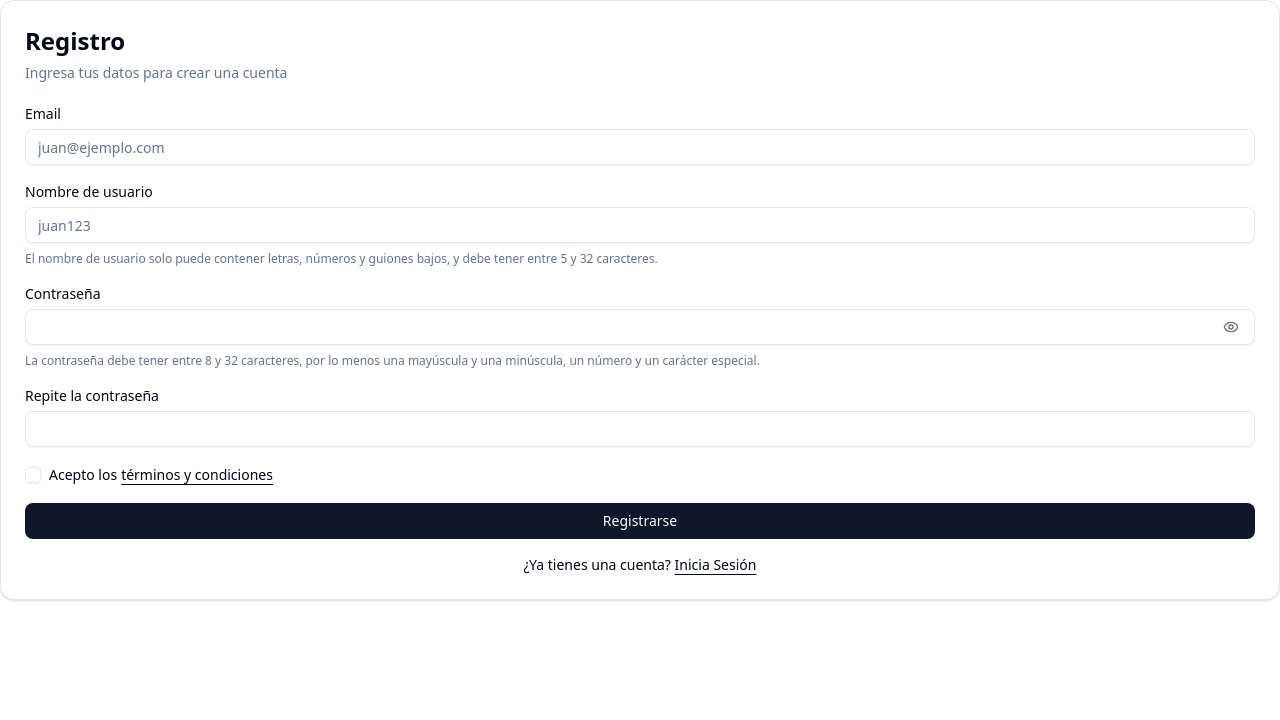
Test: RegisterForm › muestra error si las contraseñas no coinciden
This screenshot has width=1280, height=720.
Type "test@example.com" into the field labelled "Email" at (640, 147), box [25,129,1255,165]
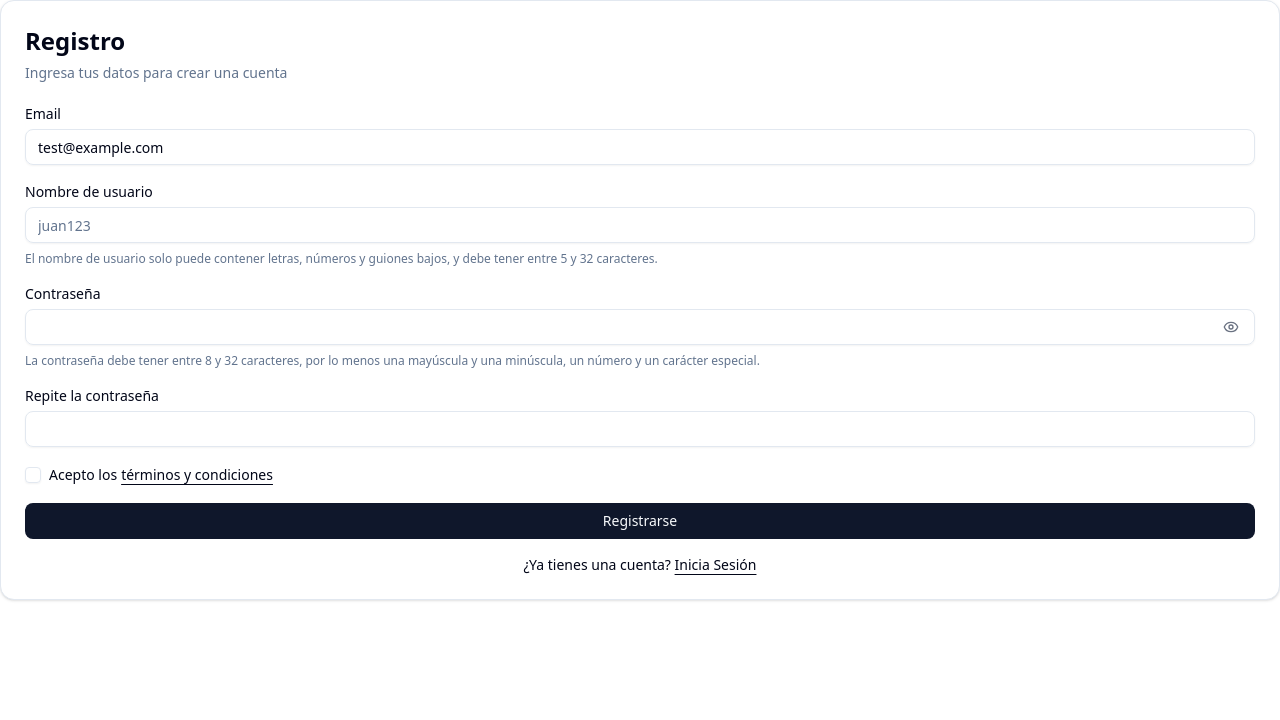
Type "usuario123" into the field labelled "Nombre de usuario" at (640, 225), box [25,207,1255,243]
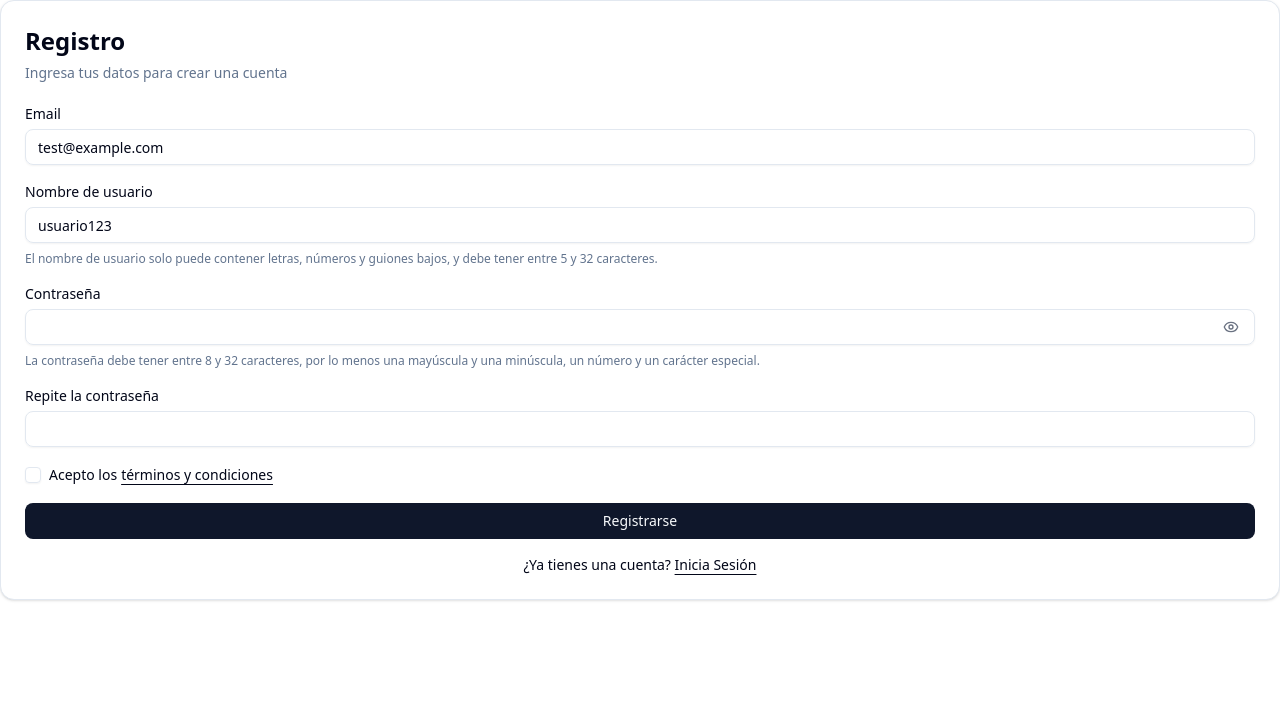
Type "Password1!" into the password field labelled "Contraseña" at (640, 327), box [25,309,1255,345]
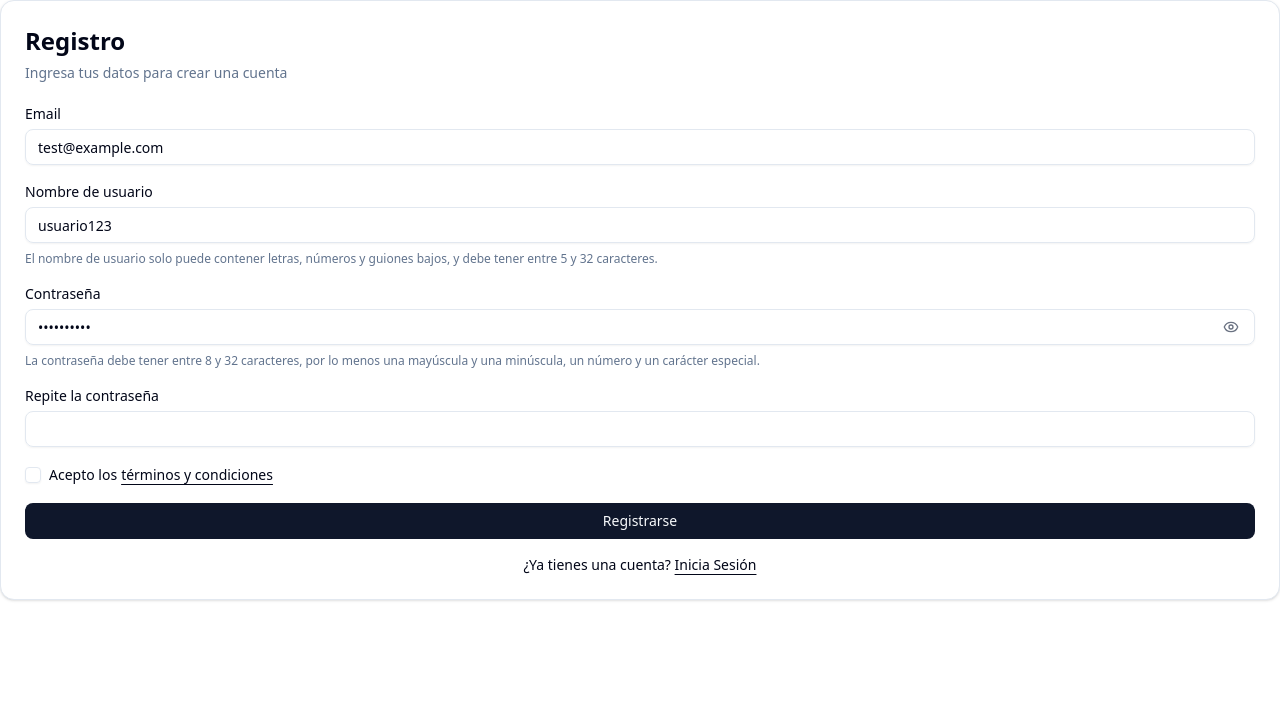
Type "Password2!" into the password field labelled "Repite la contraseña" at (640, 429), box [25,411,1255,447]
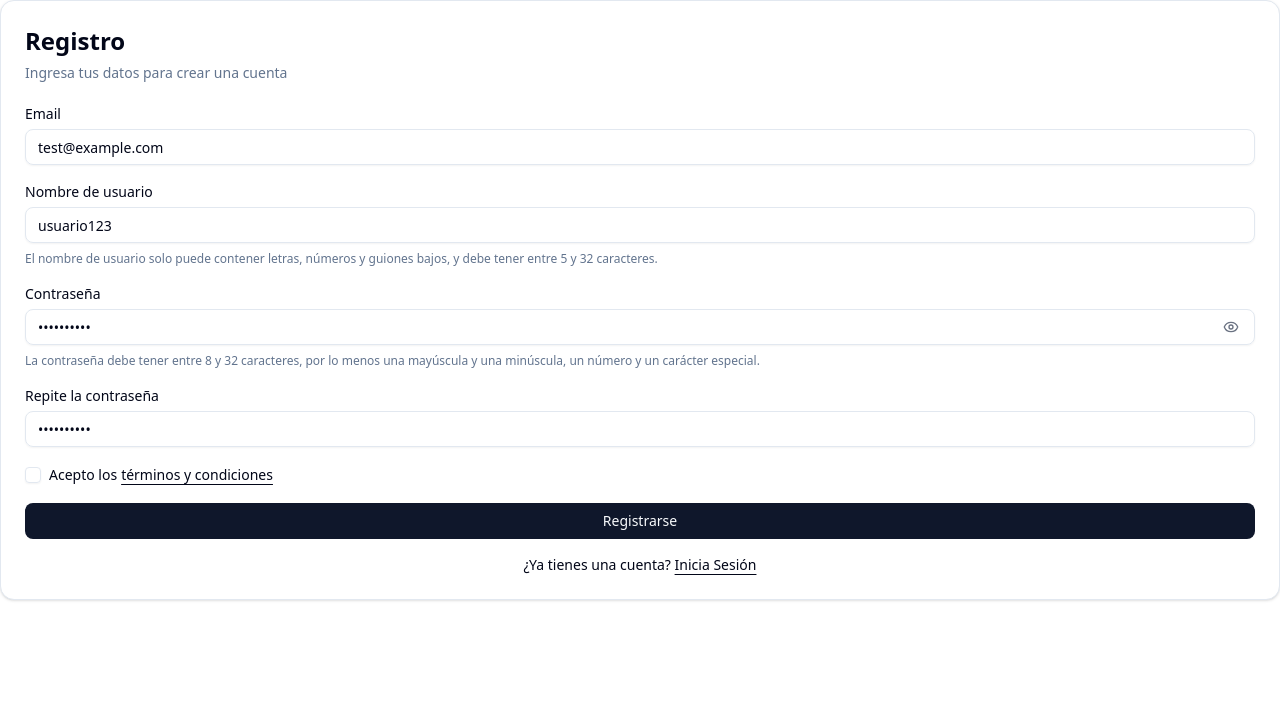
Click the checkbox named "acepto los" at (33, 475), box [25,467,41,483]
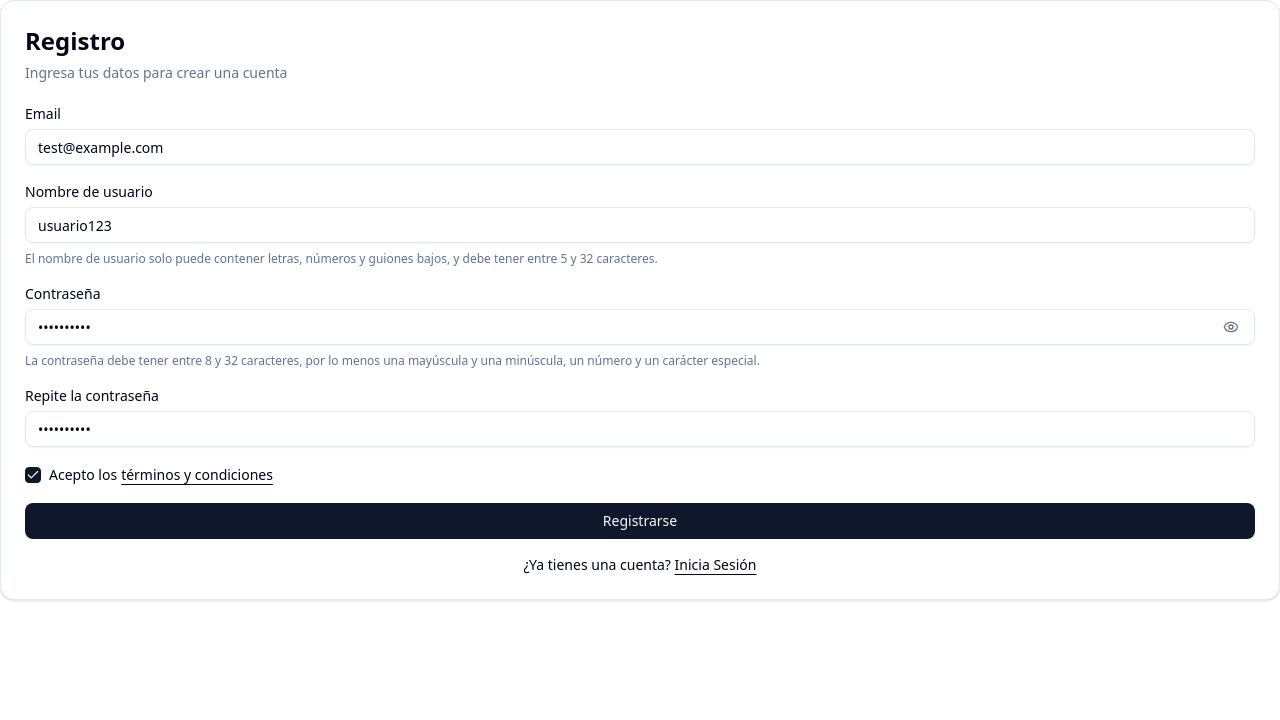
Click the button "Registrarse" at (640, 521), box [25,503,1255,539]
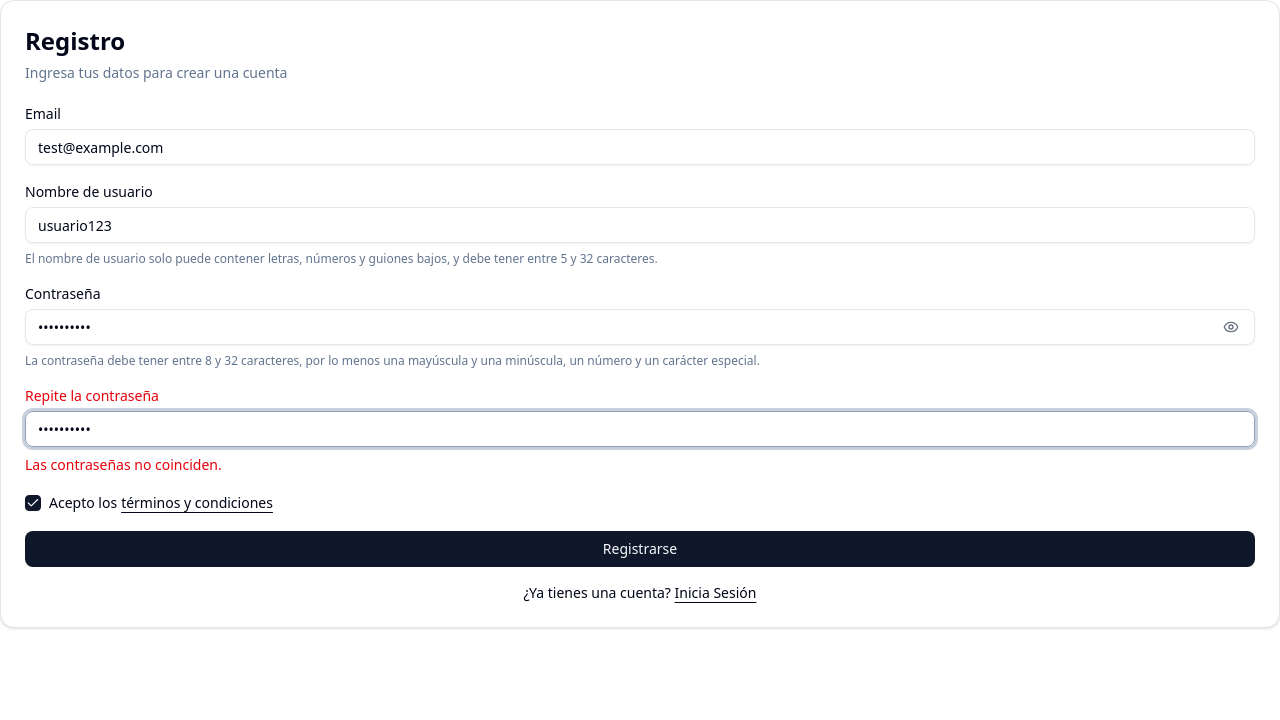
Check: the text "Las contraseñas no coinciden." is shown, box [25,455,222,474]
